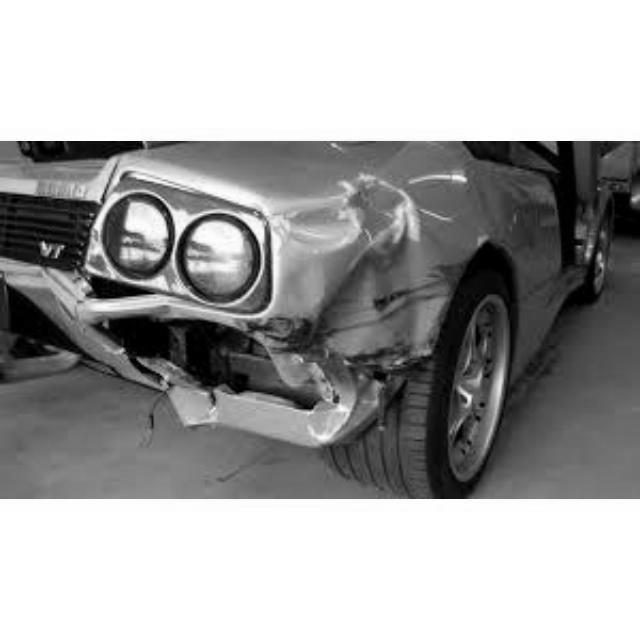fender-dent: (327, 152, 533, 262)
front-bumper-dent: (35, 287, 431, 440)
